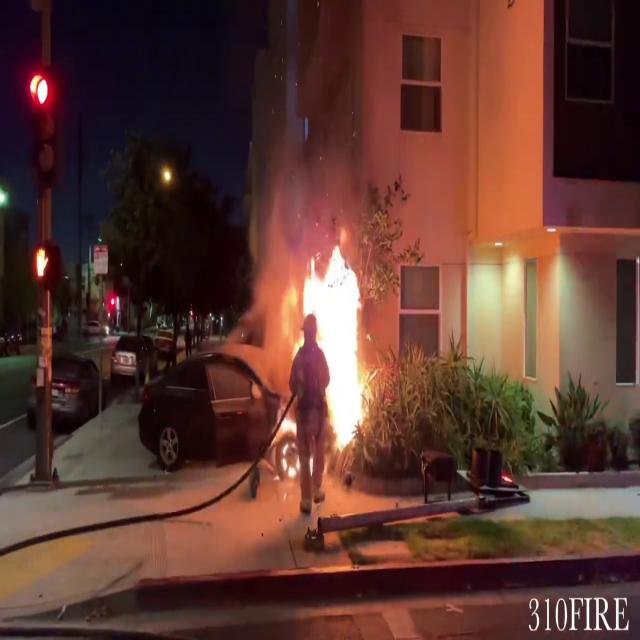Fire: (288, 237, 376, 458)
Smoke: (239, 0, 401, 272)
